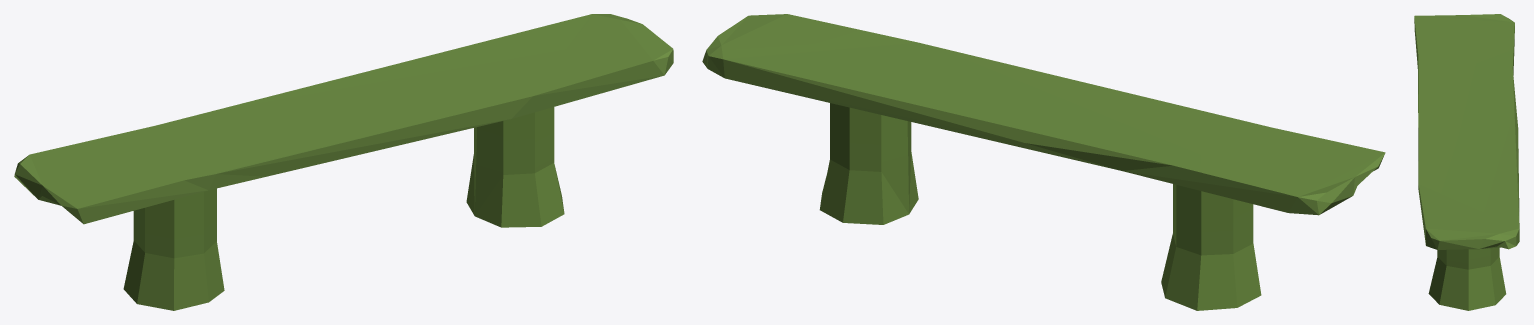
File: Bench_05.fbx
3 renders of one model, left to right at view 1: azimuth 30°, elevation 25°; view 2: azimuth 150°, elevation 25°; view 3: azimuth 270°, elevation 25°, orthographic. The views are drawn at different scales.
Parts seen in each view (by area): view 1: Bench_05; view 2: Bench_05; view 3: Bench_05.
Boxes of the visible parts, box(x1,y1,x2,y2) form: Bench_05: box(14, 14, 673, 310); Bench_05: box(702, 14, 1385, 310); Bench_05: box(1414, 14, 1519, 310).
Size of the model in its own units: 2.05 by 0.4521 by 0.4038.
